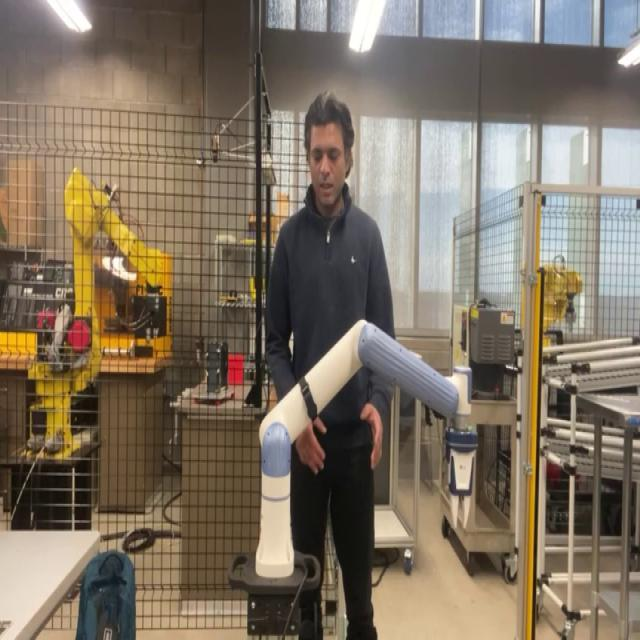robot: (227, 316, 467, 637)
